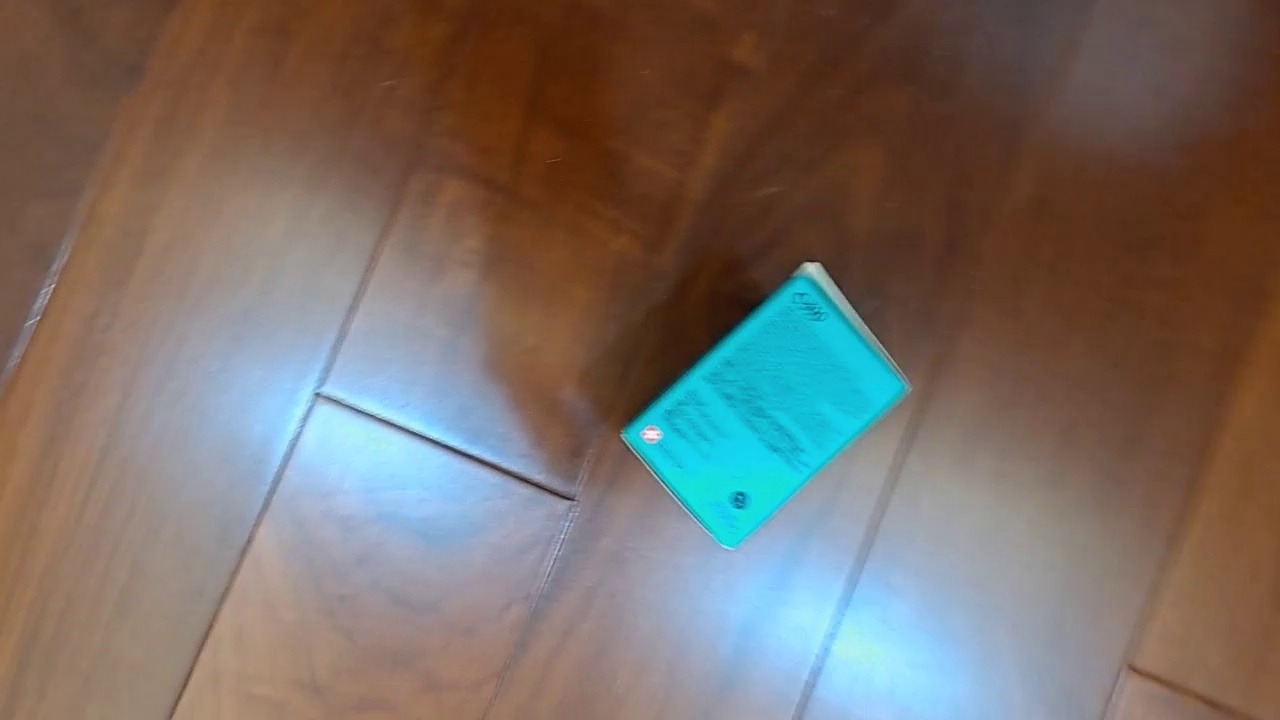webcam: (617, 258, 915, 553)
